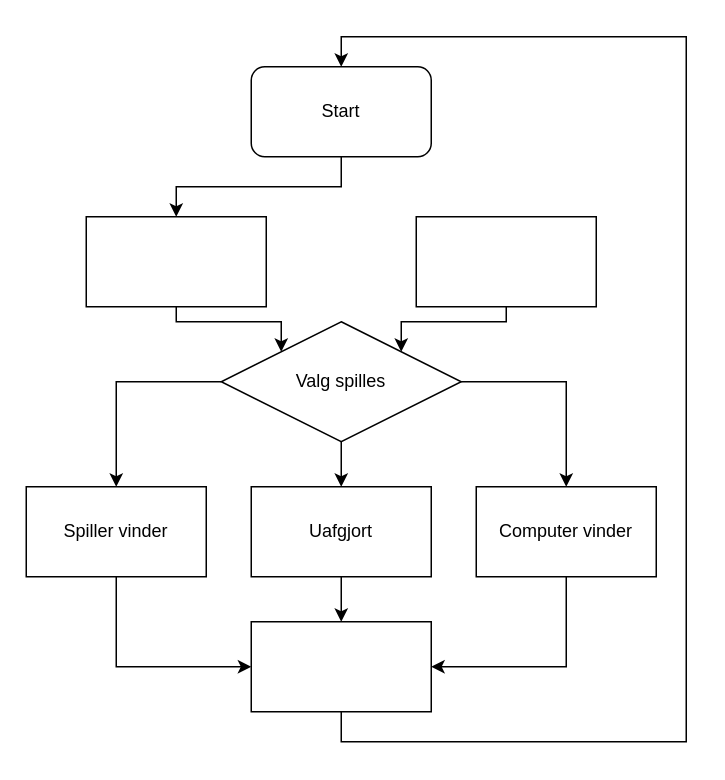
Image size: 725x780. Some labels were removed from this diagram. The box of each missing label's shape, as (x1, y1, x2, y2) in pixels:
Computer vælger RPSSL: (415, 215, 596, 307)
Pointtavle opdateres: (250, 620, 431, 712)
Velkommen Vælg RPSSL: (85, 215, 266, 307)
